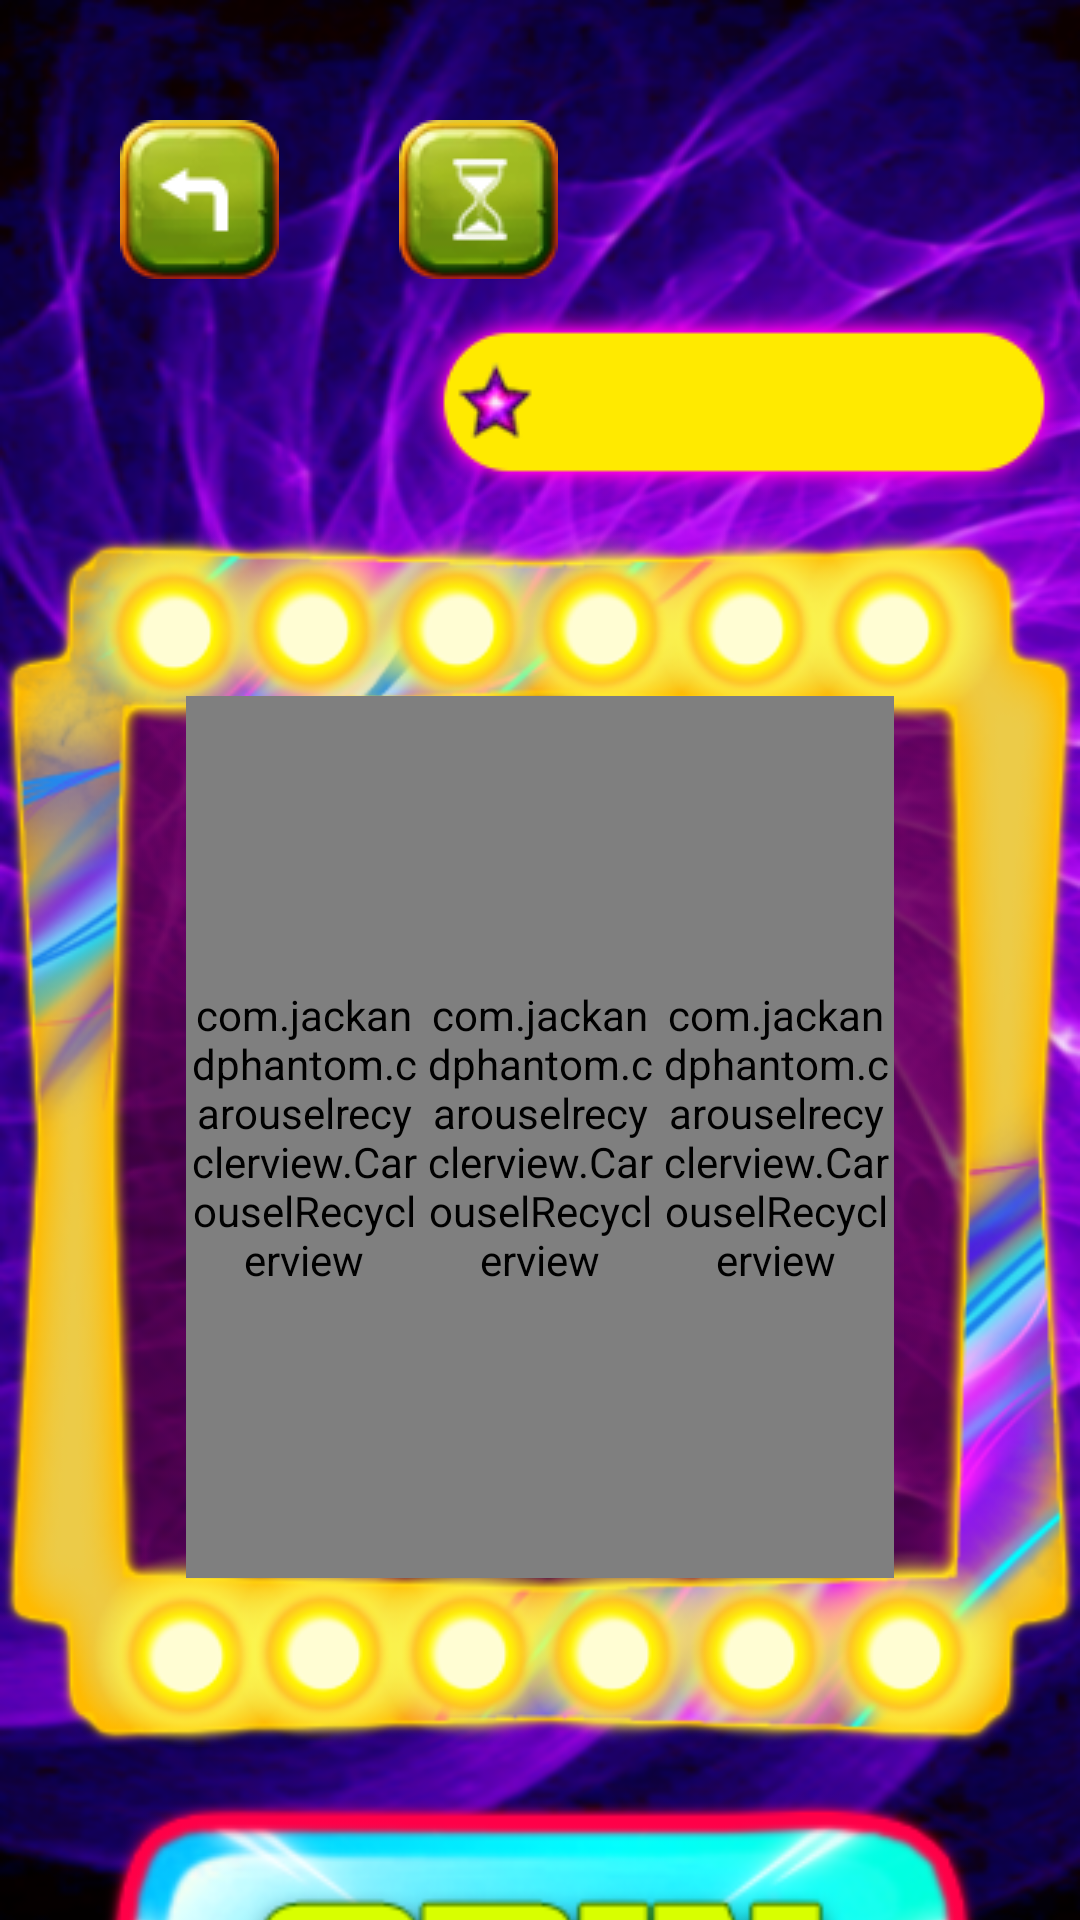

Icon click points for this 1080×1920 phone screenshot, format (x,y):
bott back: (199,199)
bott history: (478,199)
